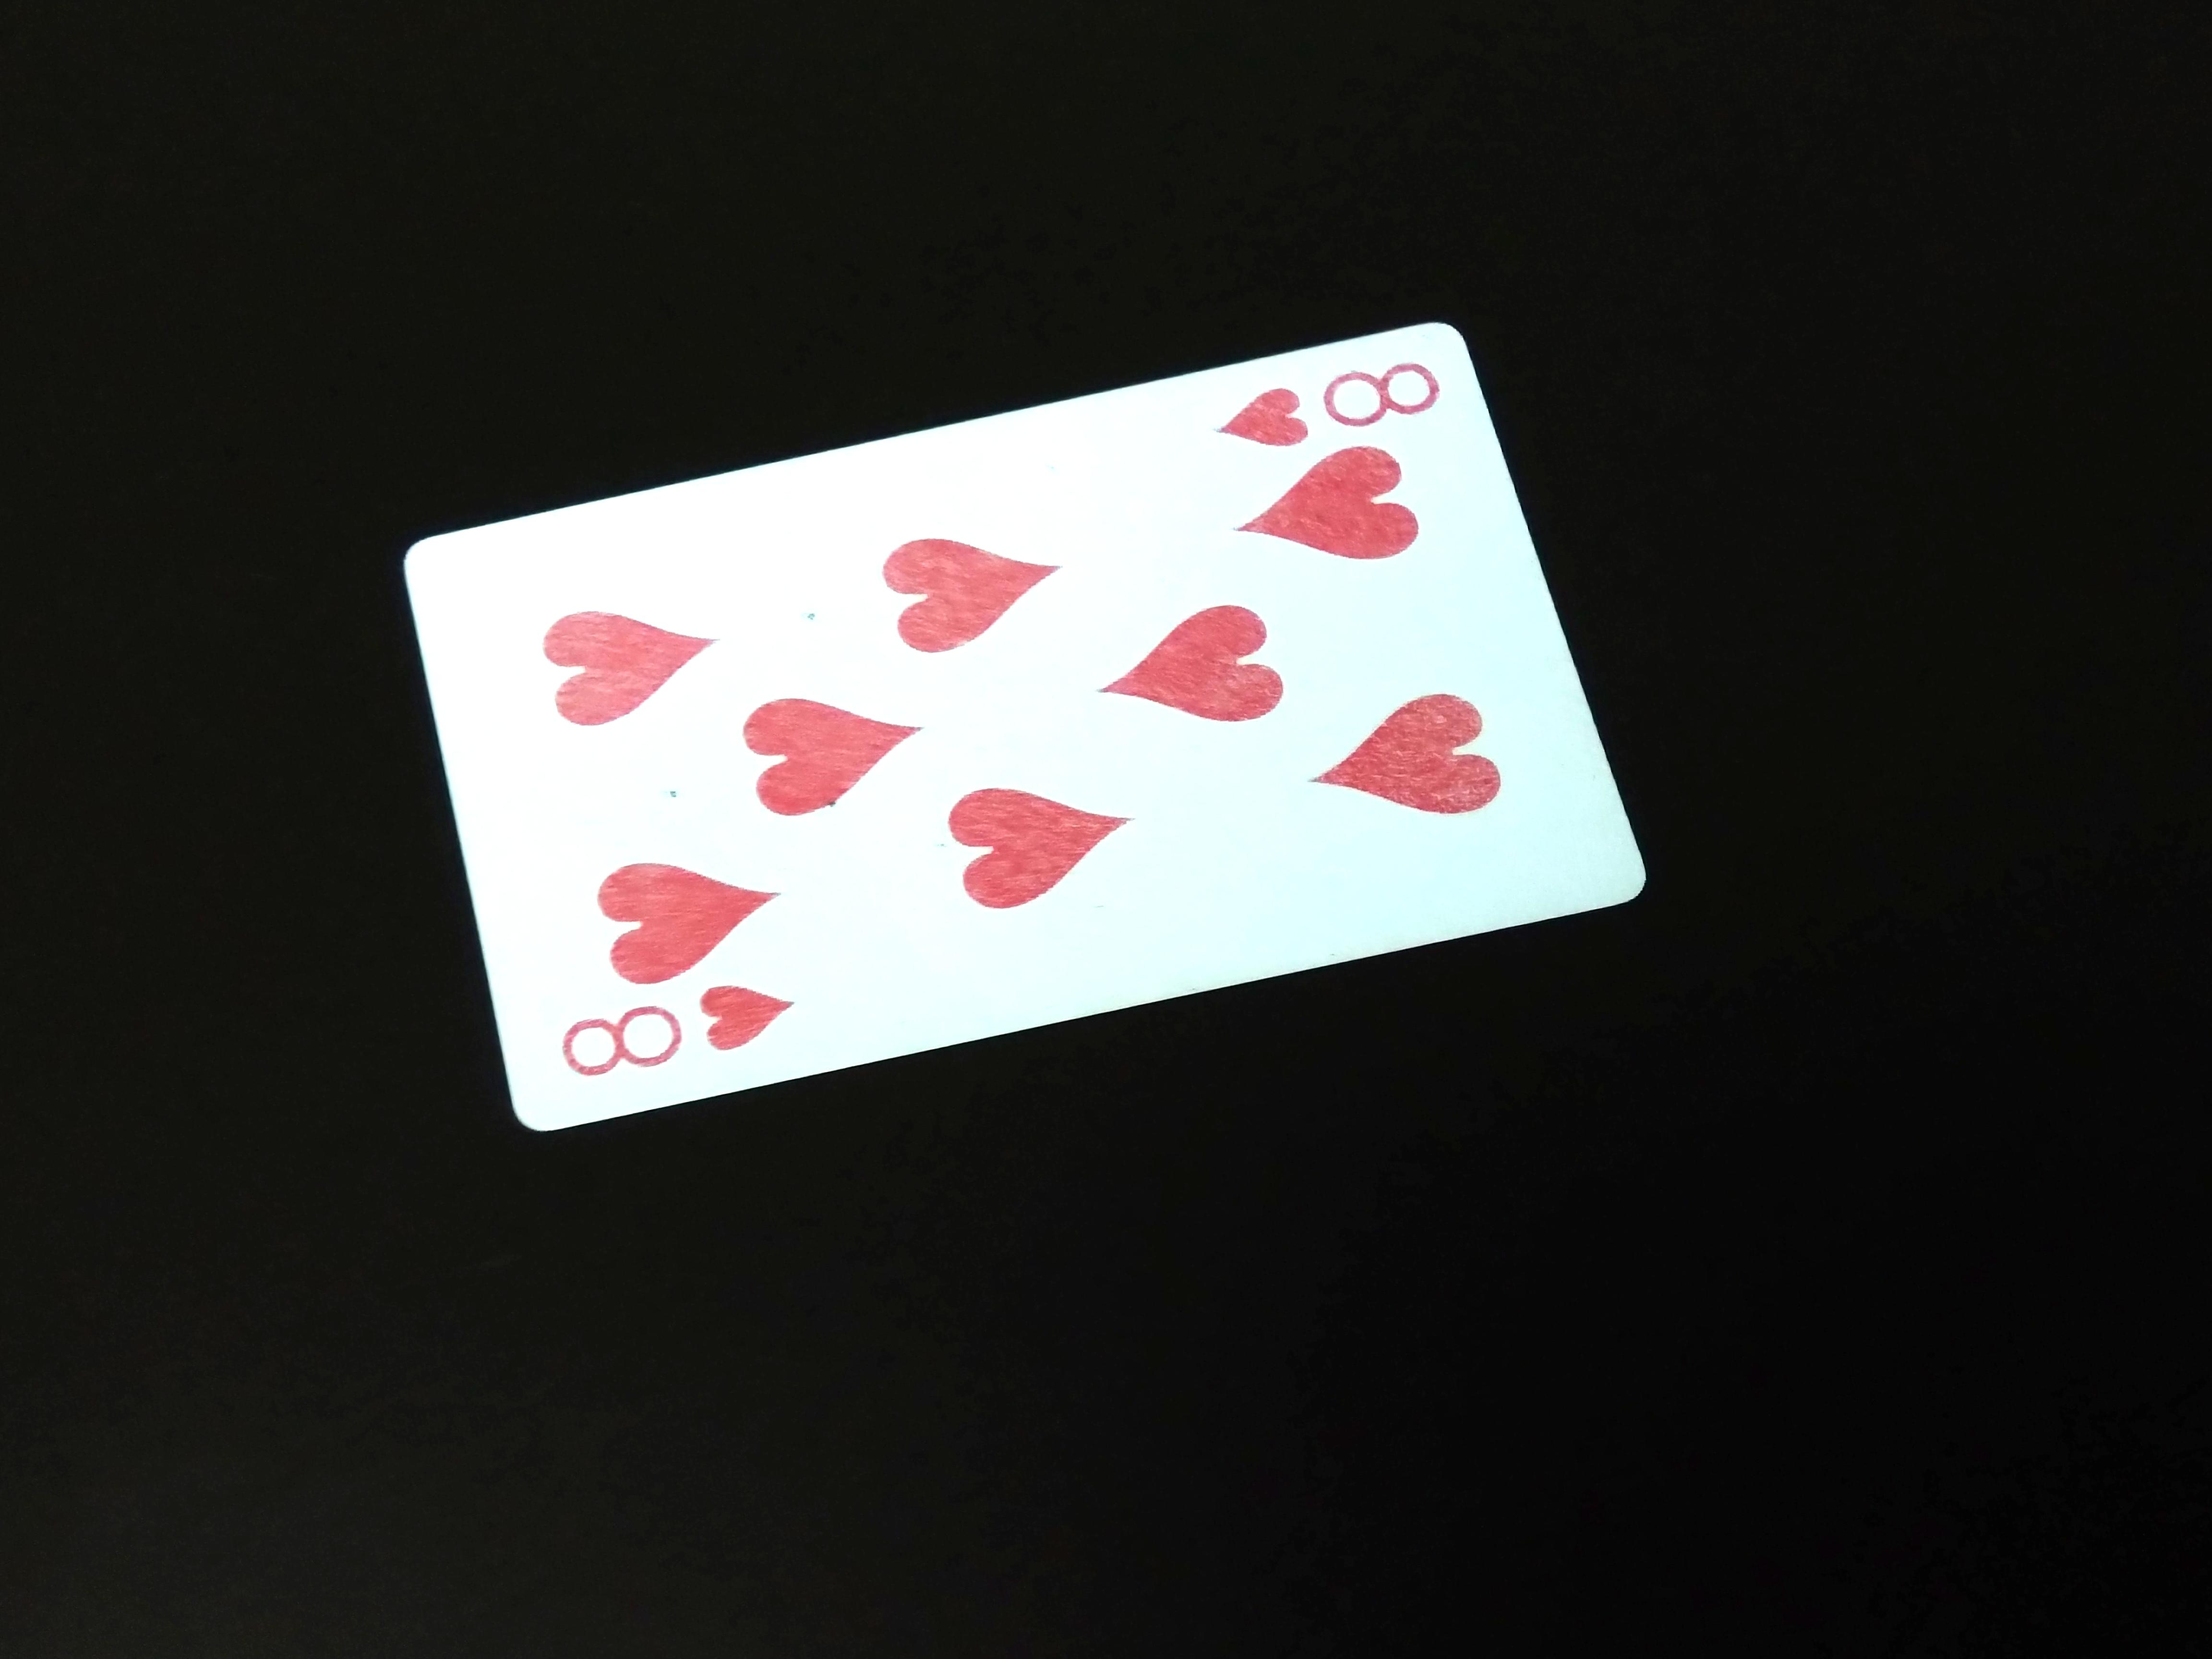8H: (1238, 338, 1449, 450)
